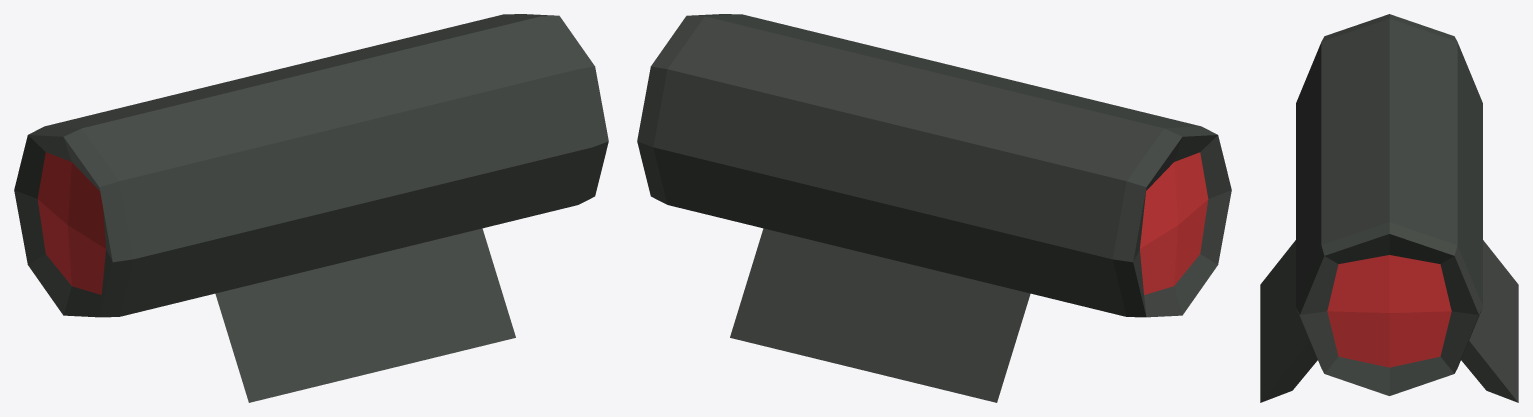
The model's file is sniper.fbx.
3 views of the same model, side by side, from view 1: azimuth 30°, elevation 25°; view 2: azimuth 150°, elevation 25°; view 3: azimuth 270°, elevation 25° (orthographic). The views are drawn at different scales.
Visible parts, largest first — view 1: Cube; view 2: Cube; view 3: Cube.
Part boxes in pixels (box(x1,y1,x2,y2)): Cube: box(14, 14, 608, 402); Cube: box(637, 14, 1231, 402); Cube: box(1260, 14, 1518, 402).
Size of the model in its own units: 510 by 242 by 253.
